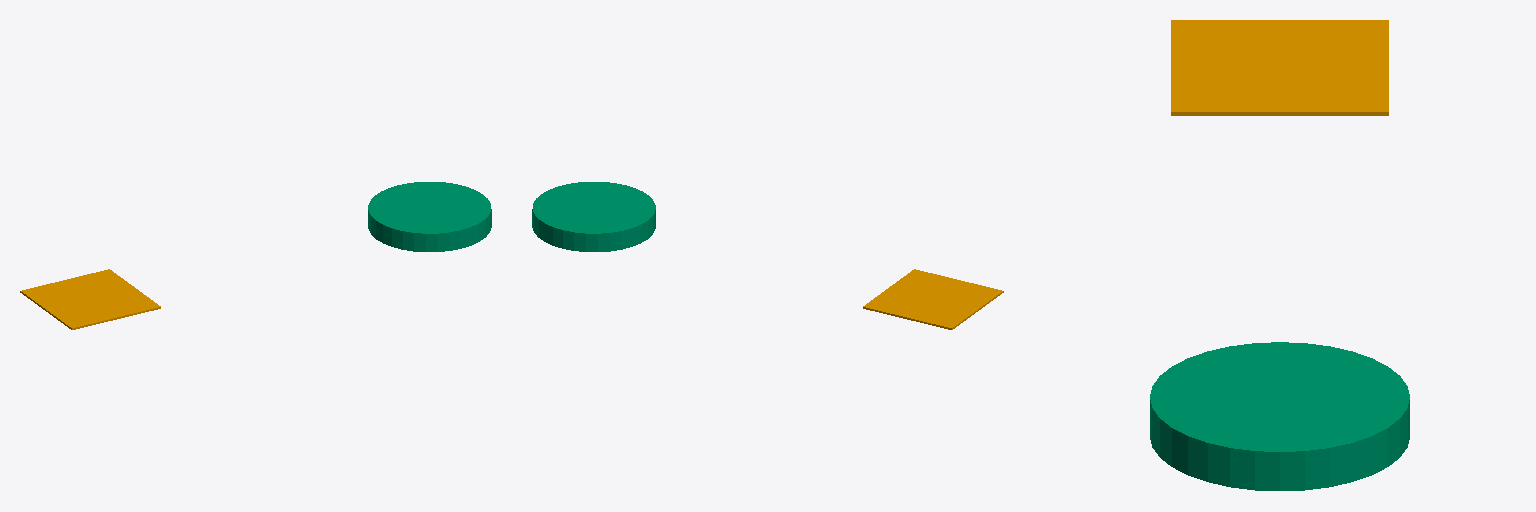
robot.urdf — WPV3:
<?xml version="1.0"?>
<robot name="WPV3">

  <!-- material -->
  <material name = "black">
    <color rgba = "0.01 0.01 0.01 1"/>
  </material>
  <material name = "grey">
    <color rgba = "0.2 0.2 0.2 1"/>
  </material>
  <material name = "blue">
    <color rgba = "0.2 0.2 0.9 1"/>
  </material>


<link name="base_footprint">
    <visual>
      <origin xyz="0 0 0" rpy="0 0 0" />
      <geometry>
        <box size="0.05 0.05 0.001" />
      </geometry>
      <material name="TransparentGreen" />
    </visual>
    <collision>
      <origin xyz="0 0 .1" rpy="0 0 0" />
      <geometry>
        <box size="0.76 0.5 .2"/>
      </geometry>
    </collision>
    <inertial>
    <mass value="10"/>
    <inertia ixx="0.4" ixy="0.0" ixz="0.0" iyy="0.4" iyz="0.0" izz="0.2"/>
    </inertial>
</link>

<joint name="base_joint" type="fixed">
  <origin xyz="0 0 0" rpy="0 0 0" />
  <parent link="base_footprint"/>
  <child link="base_link" />
</joint>

  <!-- base -->
  <link name="base_link">
  <visual>
   <geometry>
    <mesh filename="package://wpv3_bringup/meshes/wpv3.dae" scale="1 1 1"/>
   </geometry>
   <origin rpy = "1.57 0 -1.57" xyz = "0.22 .293 0"/>
  </visual>
  </link>

  <!-- *****************-->
  <!-- Lidar -->
  <link name = "laser">
    <visual>
    <geometry>
      <cylinder length="0.01" radius="0.03"/>
    </geometry>
    <origin rpy = "0 0 0" xyz = "0 0 0"/>
    </visual>
  </link>
  <joint name="laser_joint" type="fixed">
      <origin rpy="0 0 0" xyz="0.19 0 0"  /> <!--pos-->
      <parent link="base_link" />
      <child link="laser" />
  </joint>

  <!-- Kinect -->
<link name = "kinect2_dock">
  <visual>
   <geometry>
    <!-- <box size=".01 .25 .07"/>-->
    <box size="0 0 0"/>
   </geometry>
   <origin rpy = "0 0 0" xyz = "0 0 0"/>
   <material name = "red"/>
  </visual>
</link>
<joint name="kinect_height" type="prismatic">
    <parent link="base_link"/>
    <child link="kinect2_dock"/>
    <limit effort="1000.0" lower="0" upper="1.35" velocity="0.5"/>
    <origin xyz="0.174 0 0" rpy="0 -1.5707963 0"/>
  </joint>

<link name = "kinect2_ir_optical_frame">
  <visual>
   <geometry>
    <!-- <box size=".25 .04 .07"/>-->
    <box size="0 0 0"/>
   </geometry>
   <origin xyz = "0 0 0" rpy = "0 0 0"/>
   <material name = "blue"/>
  </visual>
</link>

<joint name="kinect_pitch" type="revolute">
    <axis xyz="1 0 0"/>
    <limit effort="1000.0" lower="-1.57" upper="1.57" velocity="0.5"/>
    <origin xyz="0 0 0" rpy="3.1415926 0 -1.5707963" /> <!--pos-->
    <parent link="kinect2_dock" />
    <child link="kinect2_ir_optical_frame" />
</joint>

<link name = "kinect2_rgb_optical_frame">
  <visual>
   <geometry>
    <box size="0 0 0"/>
   </geometry>
   <origin rpy = "0 0 0" xyz = "0 0 0"/>
   <material name = "blue"/>
  </visual>
</link>
<joint name="kinect_hd_joint" type="fixed">
    <origin xyz="0 0 0" rpy="0 0 0" /> <!--pos-->
    <parent link="kinect2_ir_optical_frame" />
    <child link="kinect2_rgb_optical_frame" />
</joint>

  
</robot>

--- Facts derived from the render (not from the file) ---
Views: 3 orthographic renders of the robot side by side, from view 1: azimuth 30°, elevation 25°; view 2: azimuth 150°, elevation 25°; view 3: azimuth 270°, elevation 25°.
Robot: WPV3 — 6 links, 5 joints (1 revolute, 1 prismatic, 3 fixed); root link base_footprint; default pose: all joints at 0.
Links seen in each view (by area): view 1: laser, base_footprint; view 2: laser, base_footprint; view 3: laser, base_footprint.
Boxes of the visible links, bbox=[...] form: laser: bbox=[368, 182, 491, 251]; base_footprint: bbox=[20, 269, 160, 329]; laser: bbox=[532, 182, 655, 251]; base_footprint: bbox=[863, 269, 1003, 329]; laser: bbox=[1150, 342, 1409, 490]; base_footprint: bbox=[1171, 20, 1388, 115].
Bounding box of the posed robot: 0.245 × 0.06 × 0.01 m (x, y, z).
Meshes: 1 distinct files referenced, 0 mesh visuals loaded (none loaded); not drawn: 1 (reference not matched to a file when rendering).